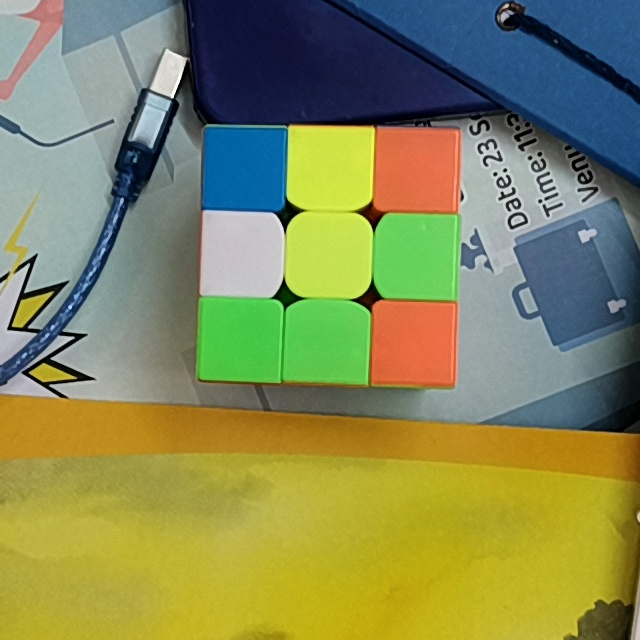tile: (379, 132, 451, 207), (205, 215, 275, 292), (203, 303, 275, 376), (295, 132, 366, 203), (378, 307, 449, 377), (210, 129, 279, 200), (294, 307, 363, 378), (294, 220, 366, 286), (385, 222, 451, 293)
